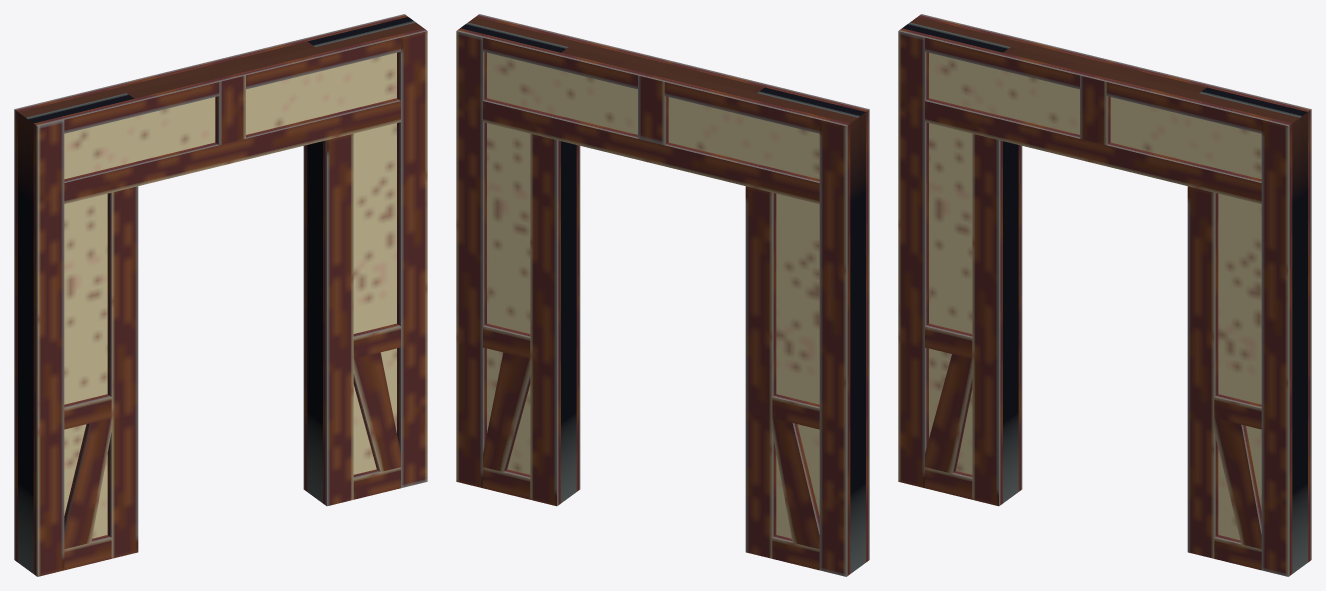
Rendered from ShortWallDoor.fbx.
The picture shows the model from 3 angles, left to right: view 1: azimuth 30°, elevation 25°; view 2: azimuth 150°, elevation 25°; view 3: azimuth 330°, elevation 25°; orthographic projection.
Parts seen in each view (by area): view 1: WoodenPlankV_Base03.013; view 2: WoodenPlankV_Base03.013; view 3: WoodenPlankV_Base03.013.
Part boxes in pixels (<box>): WoodenPlankV_Base03.013: <box>14,14,427,576</box>; WoodenPlankV_Base03.013: <box>456,14,869,576</box>; WoodenPlankV_Base03.013: <box>898,14,1311,576</box>.
Bounding box in the file's own units: 3.62 × 0.375 × 4.
